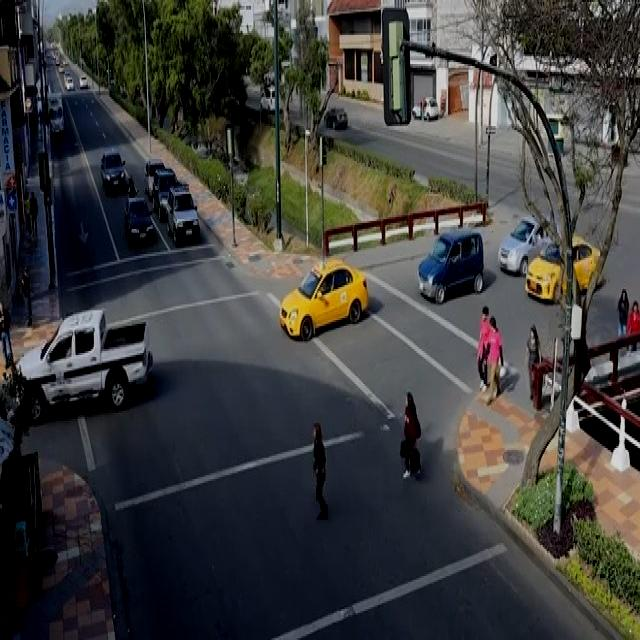CMT: (14, 312, 153, 412)
